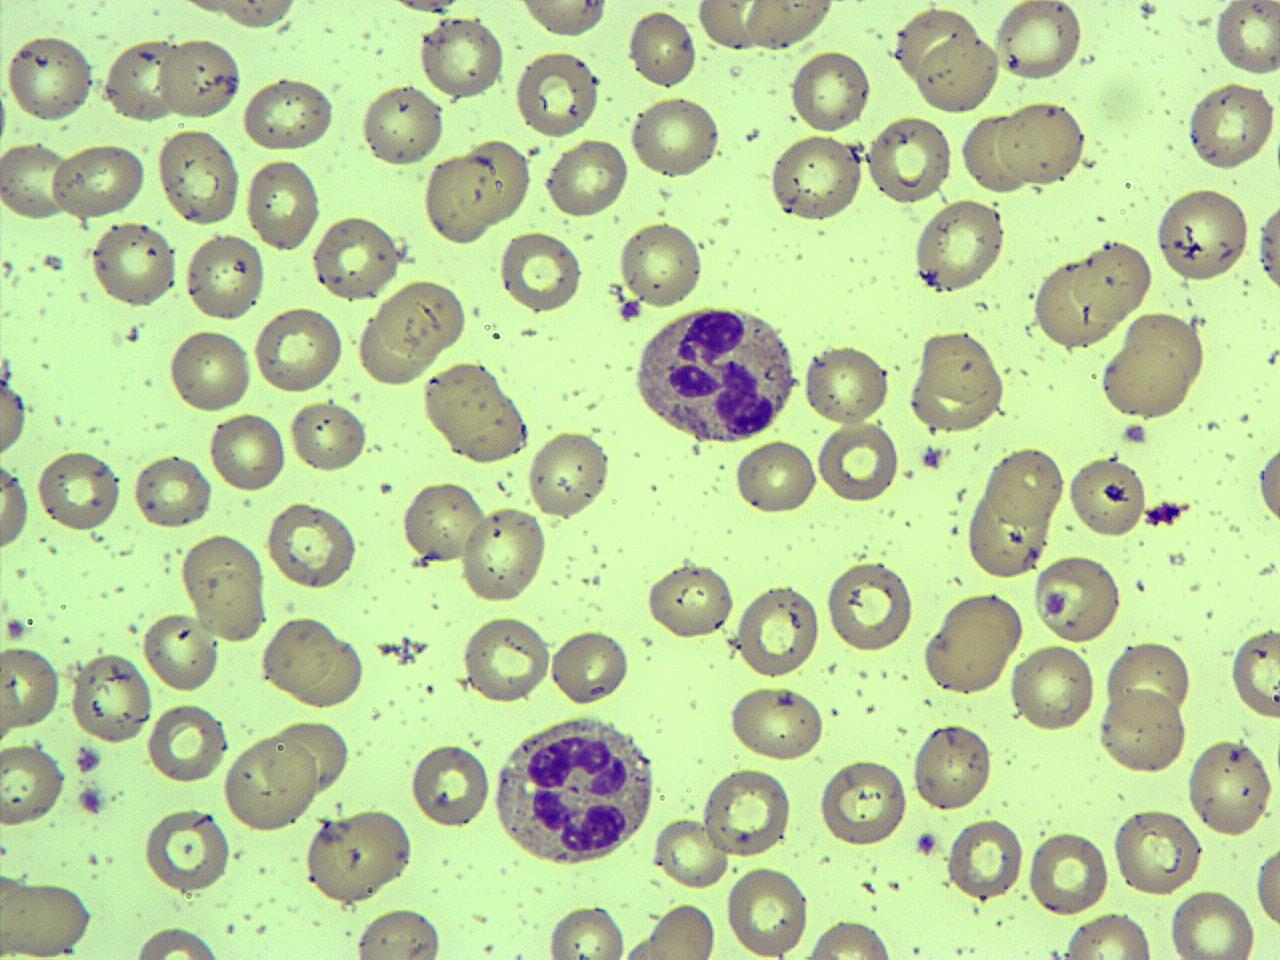Platelets: (76, 782, 106, 818), (1120, 421, 1150, 446), (913, 830, 940, 856)
RBC: (1099, 310, 1209, 422), (920, 589, 1027, 699), (424, 358, 529, 466), (304, 804, 415, 906), (258, 613, 368, 713), (1153, 184, 1253, 285), (178, 530, 268, 641), (1183, 734, 1277, 839), (221, 735, 318, 835), (912, 196, 1008, 296), (767, 131, 868, 225), (459, 504, 550, 607), (824, 556, 916, 657), (1109, 805, 1205, 899), (699, 765, 794, 860), (2, 32, 98, 126), (1184, 78, 1276, 175), (816, 756, 911, 850), (722, 862, 814, 958), (263, 501, 360, 593), (461, 613, 554, 707), (154, 126, 242, 226), (1103, 638, 1195, 730), (252, 304, 344, 396), (310, 211, 401, 305), (1032, 552, 1122, 646), (726, 682, 828, 764), (735, 582, 821, 680), (142, 805, 234, 895), (865, 116, 955, 207), (1009, 642, 1099, 734), (1098, 688, 1190, 776), (996, 99, 1089, 188), (628, 92, 722, 179), (526, 428, 613, 522), (182, 229, 267, 326), (0, 874, 98, 958), (49, 139, 149, 221), (90, 219, 179, 310), (166, 324, 254, 416), (1031, 258, 1119, 350), (69, 650, 152, 746), (512, 49, 600, 140), (406, 740, 493, 832), (243, 156, 323, 256), (498, 227, 587, 316), (800, 342, 892, 428), (964, 487, 1048, 580), (993, 0, 1085, 85), (417, 13, 505, 102), (616, 221, 705, 309), (239, 75, 338, 153), (911, 721, 994, 815), (36, 446, 123, 534), (99, 37, 186, 124), (400, 479, 487, 566), (982, 443, 1067, 530), (542, 135, 630, 221), (156, 35, 244, 121), (788, 47, 874, 135), (644, 560, 735, 642), (1025, 828, 1111, 915), (358, 83, 444, 168), (814, 419, 902, 504), (377, 276, 468, 358), (453, 137, 533, 229), (421, 150, 502, 242), (207, 408, 289, 496), (912, 32, 1001, 114), (1066, 452, 1148, 541), (1166, 884, 1260, 960), (145, 700, 228, 786), (733, 437, 818, 518), (945, 815, 1025, 902), (130, 451, 213, 532), (1073, 240, 1155, 322), (918, 327, 1004, 404), (625, 5, 700, 93), (548, 627, 630, 708), (140, 612, 219, 696), (0, 136, 74, 224), (273, 717, 352, 799), (288, 397, 370, 475), (0, 739, 69, 830), (651, 814, 730, 891), (959, 110, 1030, 196), (1, 642, 63, 736), (350, 904, 446, 960), (1227, 622, 1279, 722), (1213, 0, 1279, 80), (544, 901, 628, 960), (1059, 908, 1157, 958), (742, 0, 836, 51), (183, 0, 304, 36), (513, 0, 612, 41), (694, 0, 768, 54), (802, 917, 896, 959), (126, 924, 231, 960), (1250, 831, 1280, 942), (0, 453, 32, 556), (1253, 192, 1280, 303), (1253, 442, 1279, 533), (0, 375, 27, 461)
WBC: (487, 708, 658, 872), (628, 299, 800, 450)
